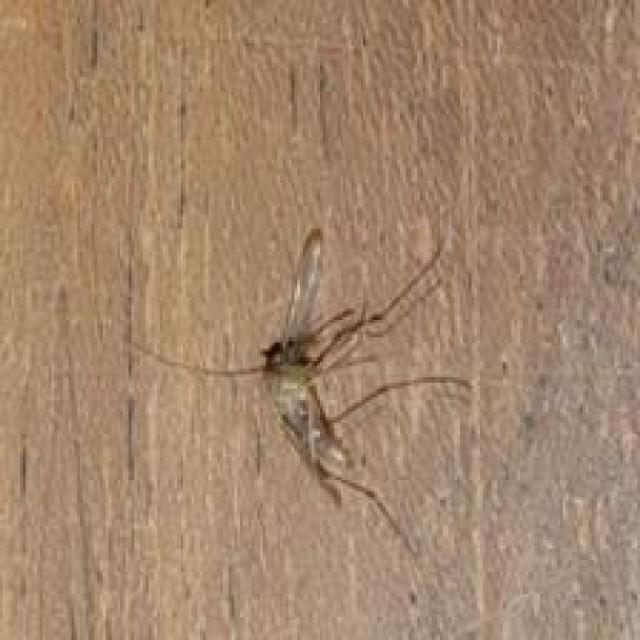Culex: (124, 223, 473, 560)
